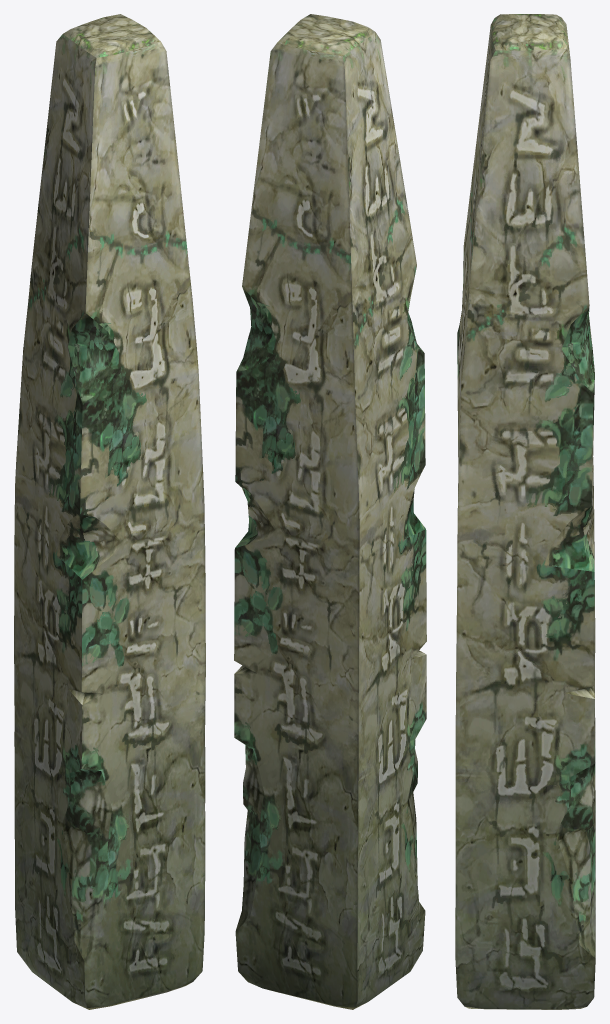
File: dro_ruins_pillar.glb
The picture shows the model from 3 angles, left to right: view 1: azimuth 30°, elevation 25°; view 2: azimuth 150°, elevation 25°; view 3: azimuth 270°, elevation 25°; orthographic projection.
Parts seen in each view (by area): view 1: dro_ruins_pillar; view 2: dro_ruins_pillar; view 3: dro_ruins_pillar.
Part boxes in pixels (x1,y1,x2,y2): dro_ruins_pillar: (14, 14, 205, 1009); dro_ruins_pillar: (234, 14, 426, 1009); dro_ruins_pillar: (455, 14, 595, 1009).
Bounding box in the file's own units: 0.4041 × 2.91 × 0.3863.
Materials: 1 (1 with a texture image).
